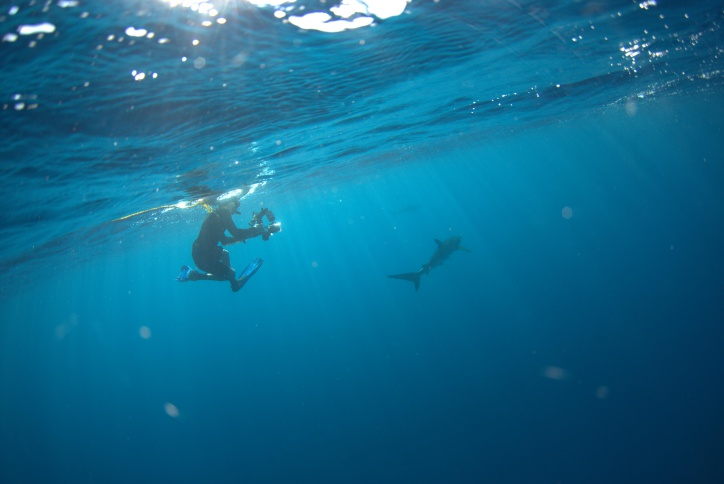Sedoso: (377, 225, 481, 294)
